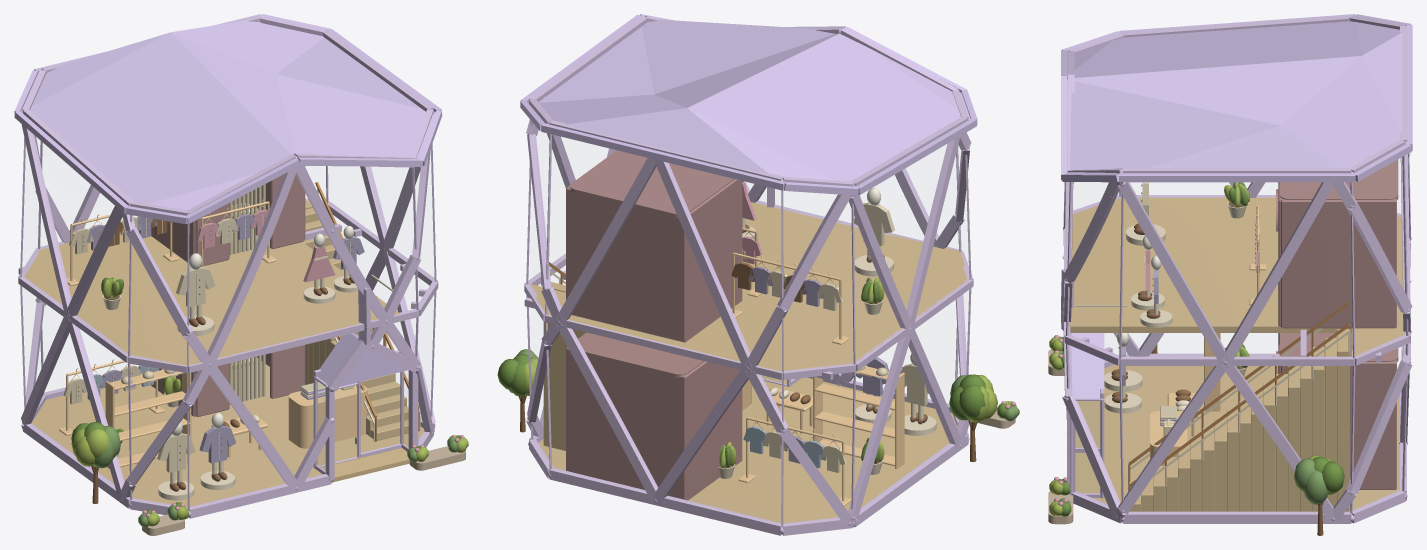
The model's file is 14-B-4224f43baf08.glb.
3 views of the same model, side by side, from view 1: azimuth 30°, elevation 25°; view 2: azimuth 150°, elevation 25°; view 3: azimuth 270°, elevation 25° (orthographic). The views are drawn at different scales.
Visible parts, largest first — view 1: R 紫色实体折面顶, A 连续折角菱格承重肋, S 二层真实有洞楼板, S 首层楼面, I 成衣, R 折面檐边, A 试衣门洞侧壁, A 二层连续边梁, S 梯级, A 转角玻璃细压条, I 服装折叠柜, I 帘褶 (+16 smaller); view 2: R 紫色实体折面顶, A 连续折角菱格承重肋, A 试衣筒背壁, S 二层真实有洞楼板, S 首层楼面, A 试衣筒侧壁, A 试衣筒顶板, I 成衣, R 折面檐边, A 二层连续边梁, A 转角玻璃细压条, L 乔木 · 枝干与树冠 (+7 smaller); view 3: R 紫色实体折面顶, A 连续折角菱格承重肋, S 二层真实有洞楼板, S 梯级, A 试衣筒侧壁, S 首层楼面, R 折面檐边, A 二层连续边梁, A 转角玻璃细压条, A 试衣筒顶板, I 模特台座, L 乔木 · 枝干与树冠 (+12 smaller).
Boxes of the visible parts, x1,y1,x2,y2 form: R 紫色实体折面顶: (21, 20, 435, 223); A 连续折角菱格承重肋: (21, 15, 435, 518); S 二层真实有洞楼板: (24, 199, 400, 365); S 首层楼面: (31, 357, 424, 506); I 成衣: (63, 209, 364, 472); R 折面檐边: (14, 14, 442, 224); A 试衣门洞侧壁: (195, 174, 304, 416); A 二层连续边梁: (18, 198, 438, 372); S 梯级: (303, 208, 408, 440); A 转角玻璃细压条: (20, 138, 436, 510); I 服装折叠柜: (288, 385, 367, 448); I 帘褶: (229, 184, 265, 404); R 紫色实体折面顶: (528, 19, 970, 181); A 连续折角菱格承重肋: (526, 15, 971, 535); A 试衣筒背壁: (568, 188, 682, 498); S 二层真实有洞楼板: (528, 202, 968, 371); S 首层楼面: (538, 375, 956, 523); A 试衣筒侧壁: (566, 179, 742, 500); A 试衣筒顶板: (570, 150, 734, 377); I 成衣: (731, 182, 928, 472); R 折面檐边: (520, 14, 977, 195); A 二层连续边梁: (524, 200, 973, 379); A 转角玻璃细压条: (526, 121, 971, 526); L 乔木 · 枝干与树冠: (497, 349, 997, 462); R 紫色实体折面顶: (1067, 21, 1402, 182); A 连续折角菱格承重肋: (1061, 15, 1412, 523); S 二层真实有洞楼板: (1068, 197, 1405, 356); S 梯级: (1129, 329, 1349, 511); A 试衣筒侧壁: (1281, 199, 1396, 489); S 首层楼面: (1075, 364, 1399, 511); R 折面檐边: (1061, 14, 1412, 182); A 二层连续边梁: (1064, 195, 1410, 365); A 转角玻璃细压条: (1066, 155, 1408, 514); A 试衣筒顶板: (1280, 159, 1398, 361); I 模特台座: (1104, 224, 1172, 413); L 乔木 · 枝干与树冠: (1151, 344, 1344, 535).
Size of the model in its own units: 23.08 by 20.6 by 17.55.
